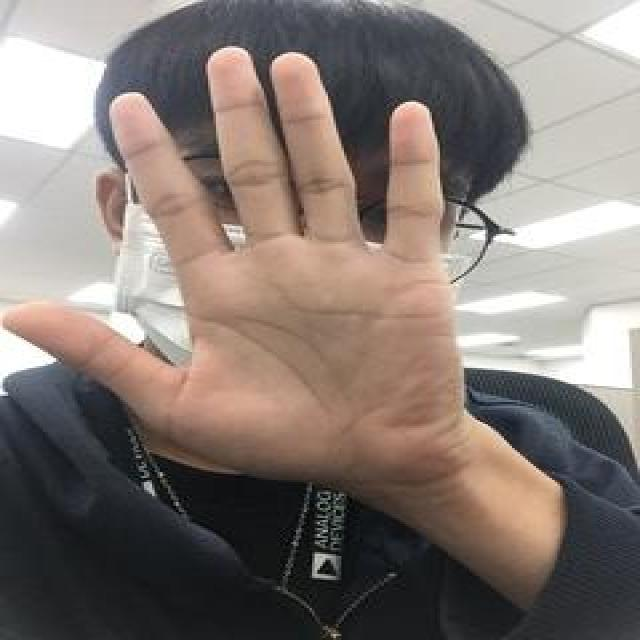hand: (0, 48, 467, 482)
